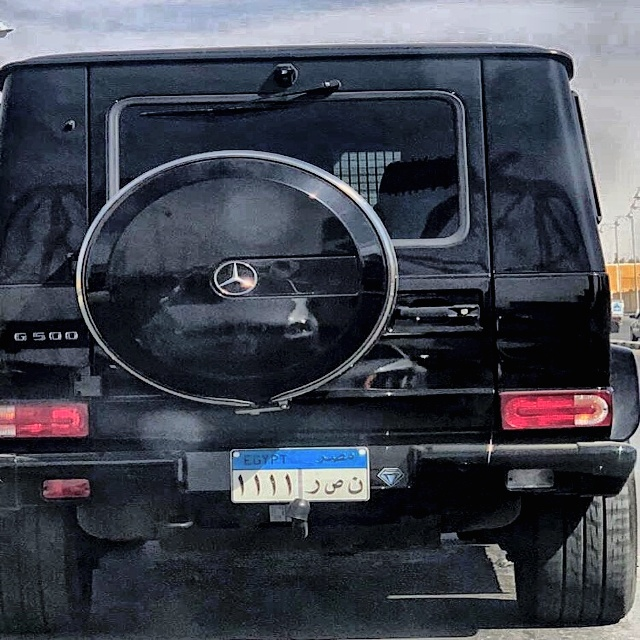License Plate: (227, 445, 373, 506)
